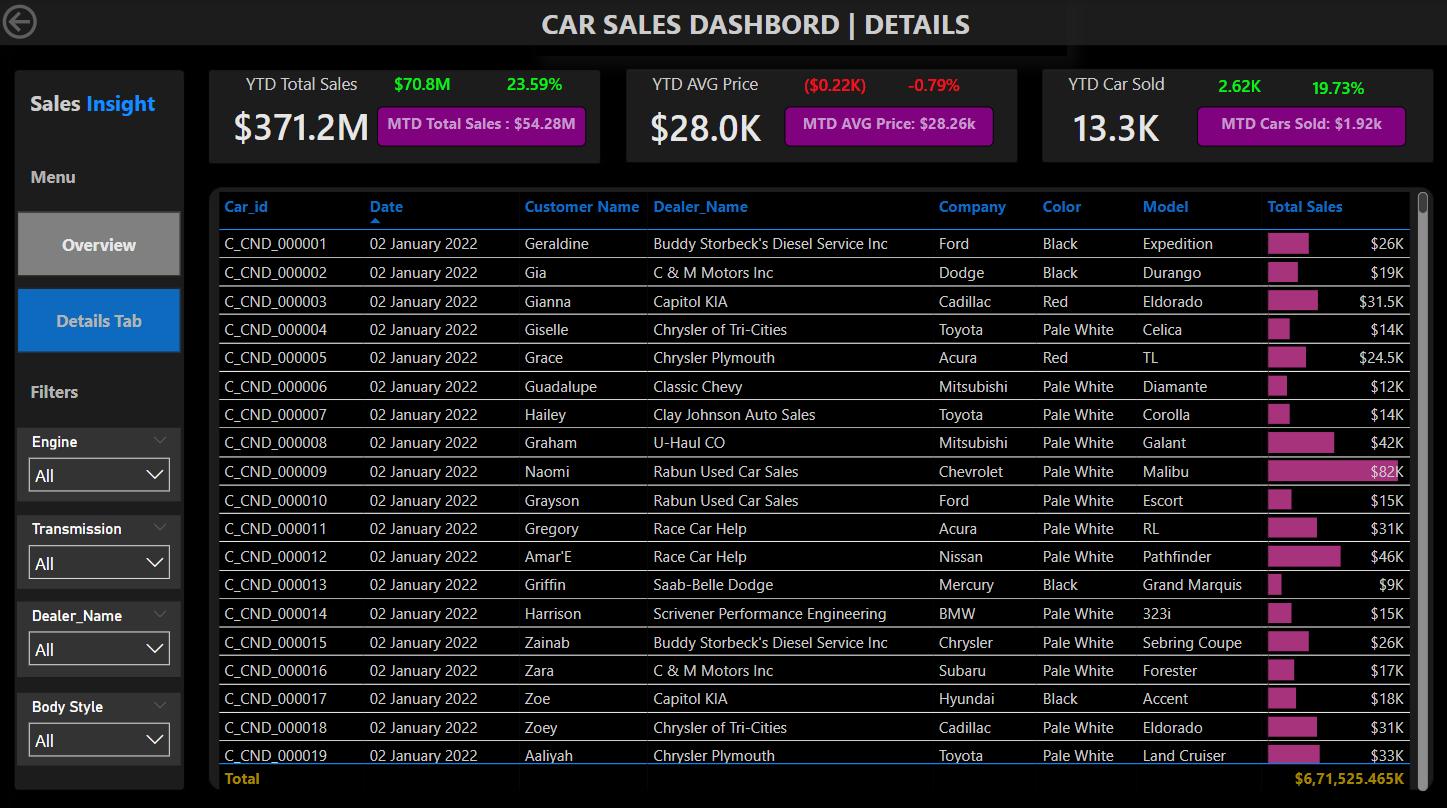

The page's visual inventory and layout, read from the dashboard file:
{"tool":"powerbi","page":{"name":"Details Tab","canvas":[1280,720],"ordinal":1},"visuals":[{"type":"card","title":"YTD Total Sales","fields":{"Values":["car_data.YTD Total Sale"]},"box":[189.8,64.1,155.3,76.4],"z":0},{"type":"actionButton","box":[0,0,100,40],"z":1000},{"type":"card","fields":{"Values":["car_data.Sales Difference"]},"box":[274.8,49.6,198.5,54.5],"z":2000},{"type":"card","fields":{"Values":["car_data.YoY Sale Growth"]},"box":[374,49.6,198.5,54.5],"z":3000},{"type":"card","fields":{"Values":["car_data.MTD KPI"]},"box":[334.1,94.4,184,35.1],"z":4000},{"type":"card","title":"YTD AVG Price","fields":{"Values":["car_data.YTD Avg Price"]},"box":[561.7,64.2,122.3,78.7],"z":5000},{"type":"card","fields":{"Values":["car_data.AVG Price Diff"]},"box":[637.9,50.8,198.5,54.5],"z":6000},{"type":"card","fields":{"Values":["car_data.YOY Avg Price Growth"]},"box":[725.1,50.8,198.5,54.5],"z":7000},{"type":"card","fields":{"Values":["car_data.MTD AVG KPI"]},"box":[692.4,94.4,184,35.1],"z":8000},{"type":"card","title":"YTD Car Sold","fields":{"Values":["car_data.YTD Car Sold"]},"box":[923.6,64.2,122.3,78.7],"z":9000},{"type":"card","fields":{"Values":["car_data.Car Sold Diff"]},"box":[993.8,52.1,198.5,54.5],"z":10000},{"type":"card","fields":{"Values":["car_data.YOY Car Sold Growth"]},"box":[1081,53.3,198.5,54.5],"z":11000},{"type":"card","fields":{"Values":["car_data.MTD Cars Sold KPI"]},"box":[1055.6,94.4,184,35.1],"z":12000},{"type":"textbox","box":[474,0,467,50],"z":13000},{"type":"slicer","fields":{"Values":["car_data.Body Style"]},"box":[17.4,610.5,144.2,64],"z":14000},{"type":"slicer","fields":{"Values":["car_data.Dealer_Name"]},"box":[17.4,530.2,144.2,66.3],"z":15000},{"type":"slicer","fields":{"Values":["car_data.Engine"]},"box":[17.4,376.7,144.2,65.1],"z":16000},{"type":"slicer","fields":{"Values":["car_data.Transmission"]},"box":[17.4,454.7,144.2,65.1],"z":17000},{"type":"textbox","box":[24.4,330.2,75.6,30.2],"z":18000},{"type":"tableEx","fields":{"Values":["car_data.Car_id","car_data.Date","car_data.Customer Name","car_data.Dealer_Name","car_data.Company","car_data.Color","car_data.Model","car_data.Price ($)"]},"box":[189.5,165.1,1074.4,537.2],"z":19000},{"type":"textbox","box":[24.4,73.3,139.5,38.4],"z":20000},{"type":"pageNavigator","box":[17.4,187.2,144.2,125.6],"z":21000},{"type":"textbox","box":[24.4,140.7,75.6,40.7],"z":23000}]}

Visuals, with their boxes on the page's 1280x720 design canvas (x1, y1, x2, y2). These are canvas units, not pixel positions in the 1447x808 screenshot, which may show the page scaled, cropped or inside an application window:
"YTD Total Sales" card: [left=190, top=64, right=345, bottom=140]
actionButton: [left=0, top=0, right=100, bottom=40]
card - car_data.Sales Difference: [left=275, top=50, right=473, bottom=104]
card - car_data.YoY Sale Growth: [left=374, top=50, right=572, bottom=104]
card - car_data.MTD KPI: [left=334, top=94, right=518, bottom=130]
"YTD AVG Price" card: [left=562, top=64, right=684, bottom=143]
card - car_data.AVG Price Diff: [left=638, top=51, right=836, bottom=105]
card - car_data.YOY Avg Price Growth: [left=725, top=51, right=924, bottom=105]
card - car_data.MTD AVG KPI: [left=692, top=94, right=876, bottom=130]
"YTD Car Sold" card: [left=924, top=64, right=1046, bottom=143]
card - car_data.Car Sold Diff: [left=994, top=52, right=1192, bottom=107]
card - car_data.YOY Car Sold Growth: [left=1081, top=53, right=1280, bottom=108]
card - car_data.MTD Cars Sold KPI: [left=1056, top=94, right=1240, bottom=130]
textbox: [left=474, top=0, right=941, bottom=50]
slicer - car_data.Body Style: [left=17, top=610, right=162, bottom=674]
slicer - car_data.Dealer_Name: [left=17, top=530, right=162, bottom=596]
slicer - car_data.Engine: [left=17, top=377, right=162, bottom=442]
slicer - car_data.Transmission: [left=17, top=455, right=162, bottom=520]
textbox: [left=24, top=330, right=100, bottom=360]
tableEx - car_data.Car_id x car_data.Date: [left=190, top=165, right=1264, bottom=702]
textbox: [left=24, top=73, right=164, bottom=112]
pageNavigator: [left=17, top=187, right=162, bottom=313]
textbox: [left=24, top=141, right=100, bottom=181]
